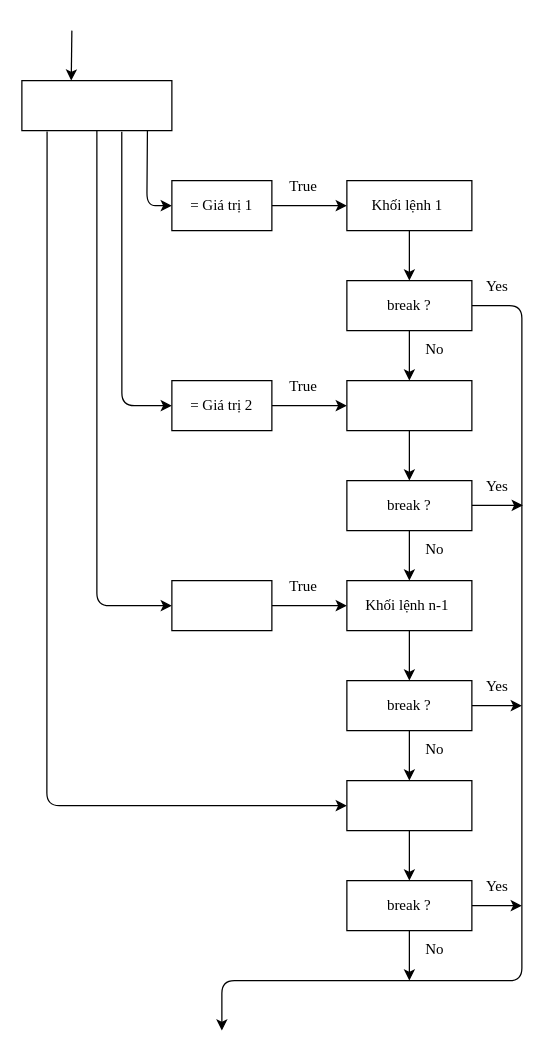
Image size: 555x1063. Some labels were removed from this diagram. Each missing label, with the centre of its shape:
= Giá trị n-1: [221,605]
Biểu thức điều kiện: [96,105]
Khối lệnh 2: [409,405]
Khối lệnh n: [409,805]
